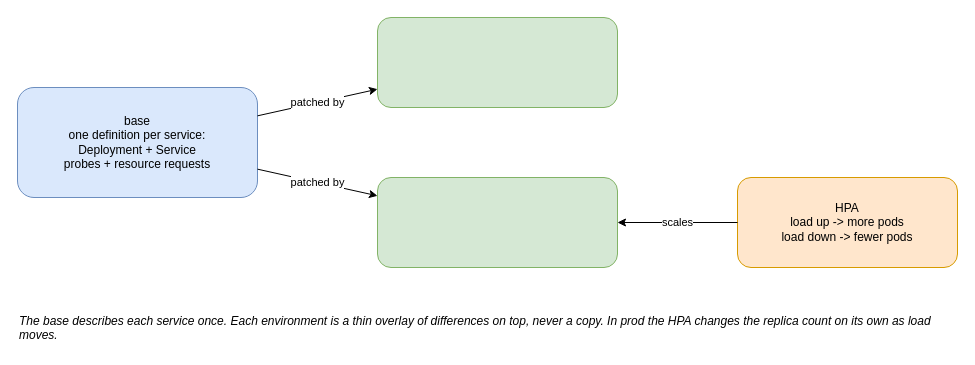
The diagram is 975 pixels wide and 365 high, and some of its shapes have lost their labels. The shapes that lost their labels are listed below. From the top down, each one's centre as x and y in pixels, then its label:
(x=497, y=62): overlay: dev namespace shop-dev 1 replica, debug logs
(x=497, y=222): overlay: prod namespace shop-prod 3+ replicas, HPA, PDB, real tag
